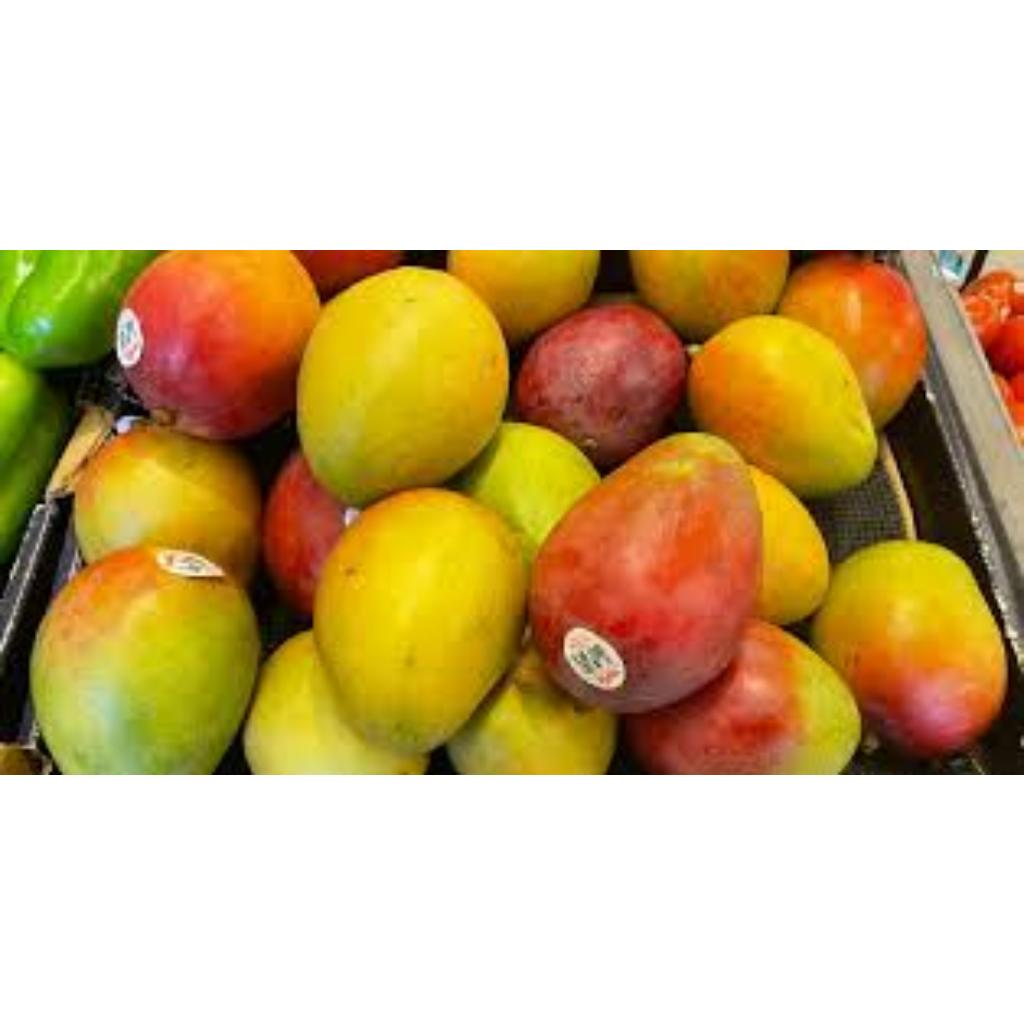mango: (528, 432, 763, 715), (317, 483, 532, 754), (24, 547, 260, 774), (297, 263, 512, 506), (811, 539, 1011, 758), (115, 249, 324, 443), (684, 315, 881, 497), (626, 621, 853, 774), (59, 421, 266, 585), (780, 251, 938, 434), (519, 298, 680, 461), (253, 456, 365, 614)
